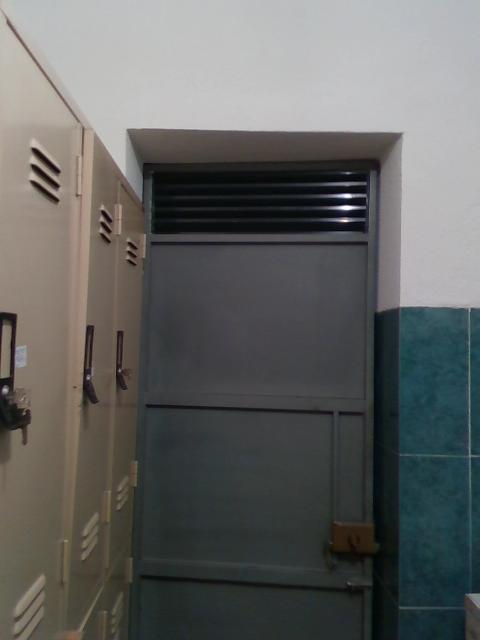closed_door: (128, 159, 378, 639)
